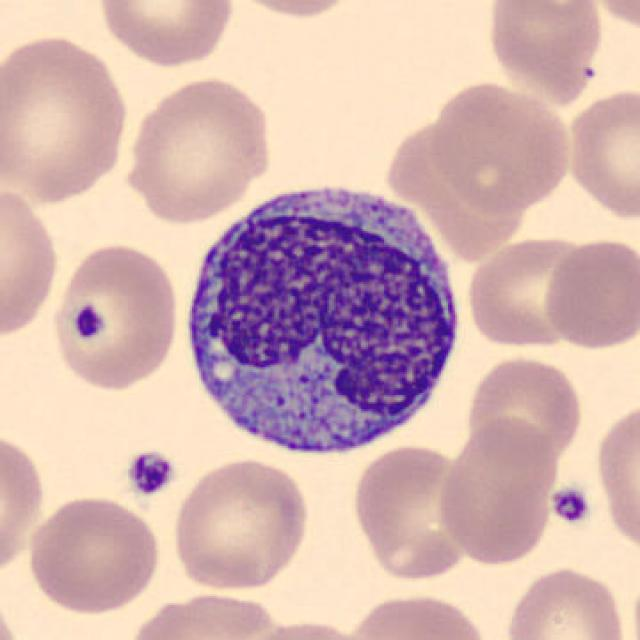Monocyte: (175, 166, 470, 467)
Platelets: (66, 289, 117, 350), (121, 448, 178, 499), (548, 483, 594, 527)
RBC: (121, 72, 275, 226), (0, 29, 133, 206), (388, 119, 536, 264), (48, 238, 183, 395), (169, 455, 313, 594), (434, 412, 562, 568), (428, 80, 576, 212), (348, 441, 474, 584), (23, 492, 164, 617), (464, 231, 599, 351), (462, 351, 587, 467), (482, 0, 606, 106), (540, 232, 638, 352), (562, 85, 638, 222), (501, 562, 631, 640), (92, 0, 238, 69), (0, 180, 62, 342), (123, 589, 288, 640), (592, 395, 640, 559), (0, 425, 50, 580), (343, 589, 493, 640), (231, 615, 379, 640), (219, 0, 368, 21), (586, 0, 640, 35), (0, 583, 25, 640)
